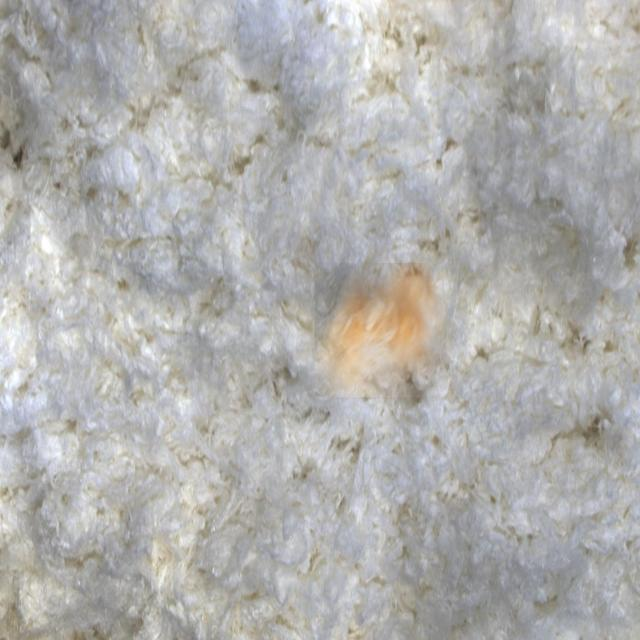dust: (315, 263, 447, 397)
